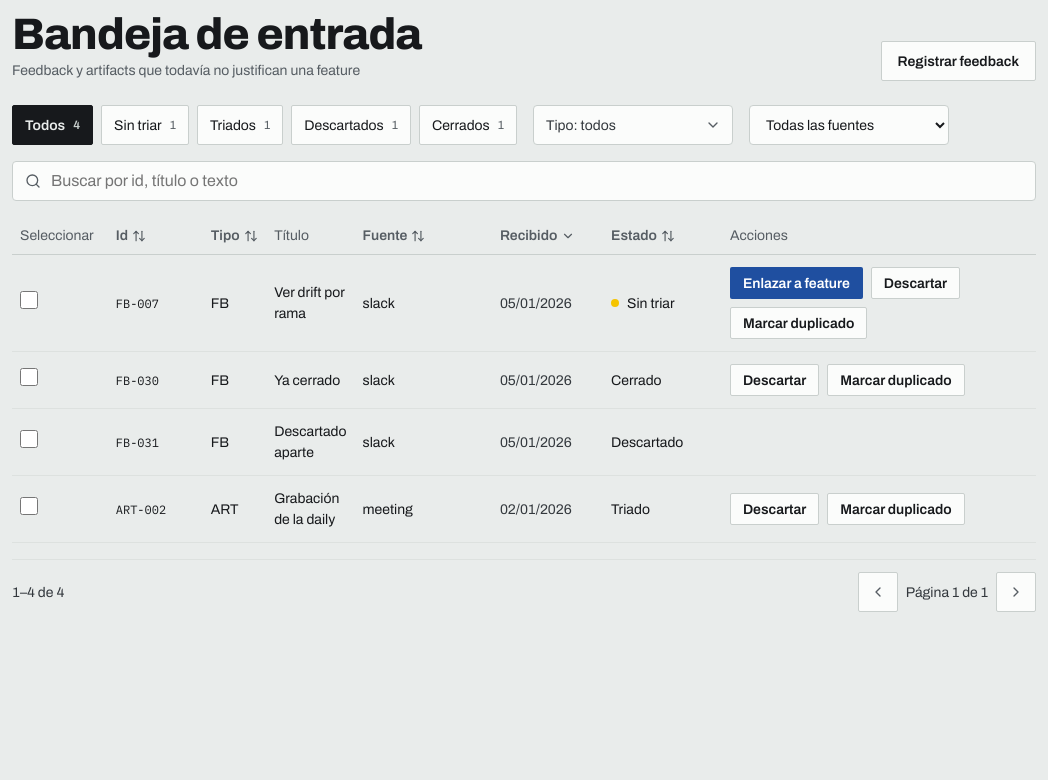
it: Entrada › triage › reads a closed item as «Cerrado» and counts it once in the «Cerrados» chip (SDD-092 D7)
Expected: the text "FB-030" is shown, [116,372,159,388]
Expected: the text "Cerrado" is shown, [611,370,662,390]
Click the radio button labelled "Cerrados 1": click(468, 125) [419,105,517,145]
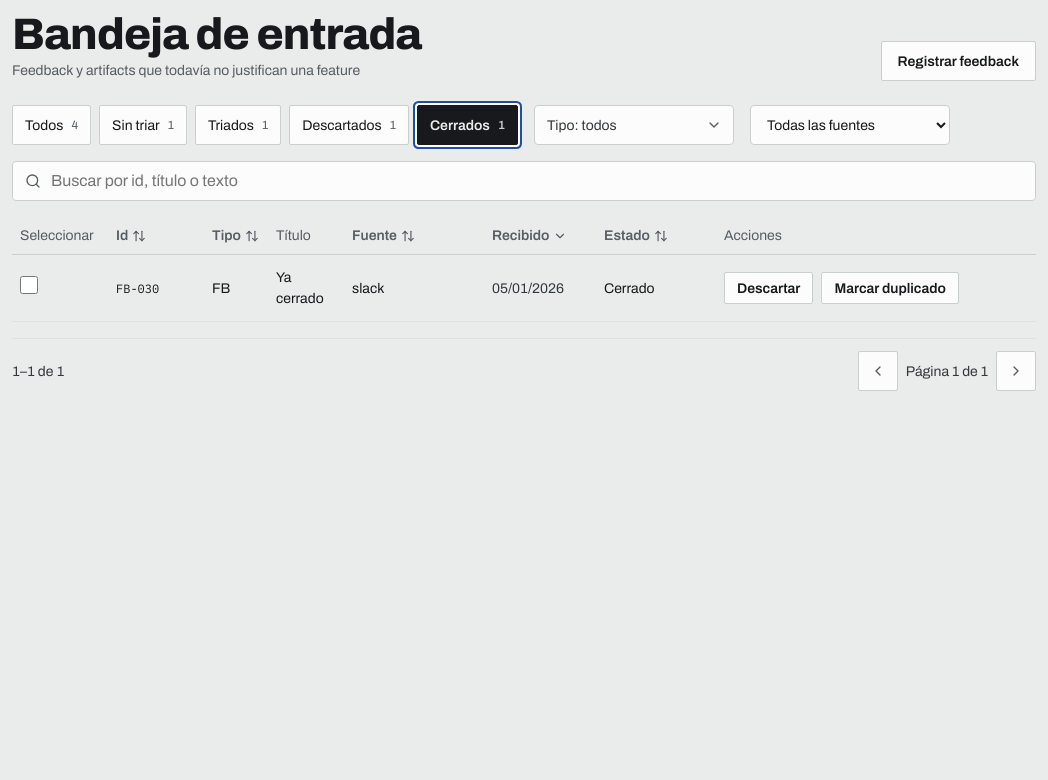
Expected: the text "FB-030" is shown, [116,280,159,296]
Result: the text "FB-007" is gone
Result: the text "FB-031" is gone
